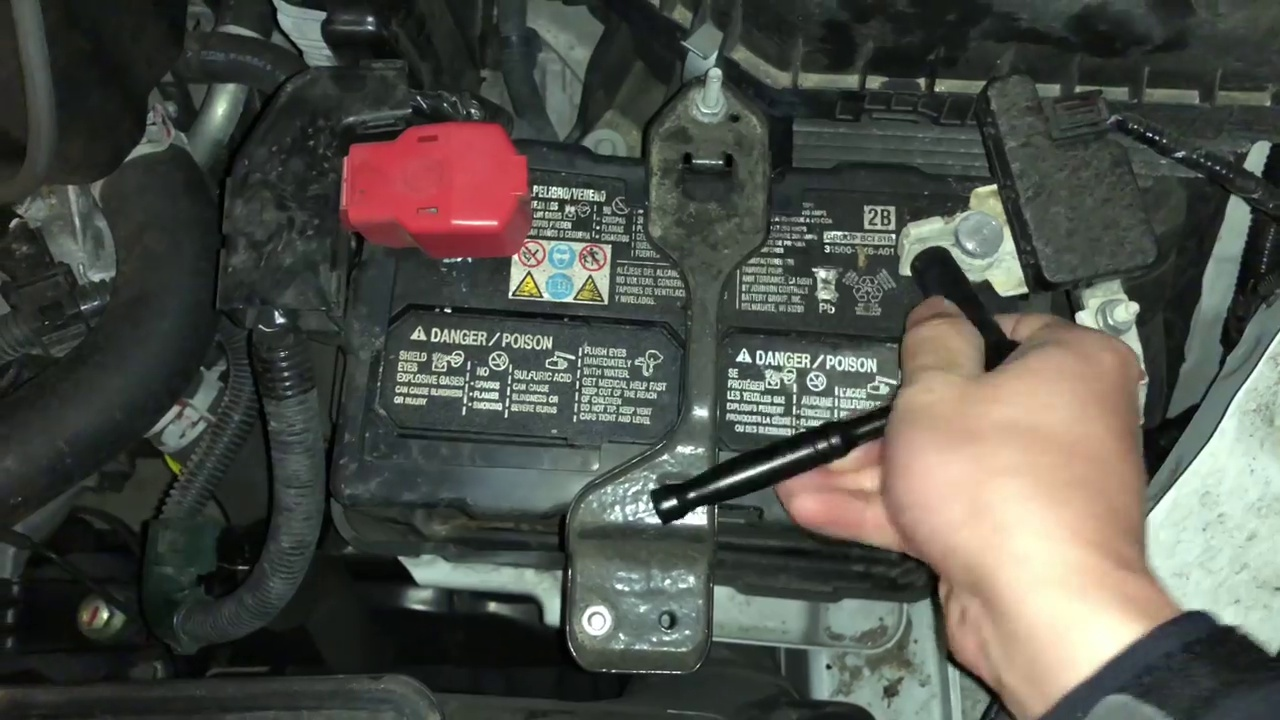battery: (339, 108, 1012, 581)
neg_connected: (878, 179, 1040, 303)
neg_touched: (882, 142, 1048, 478)
pos_connected: (338, 108, 553, 261)
